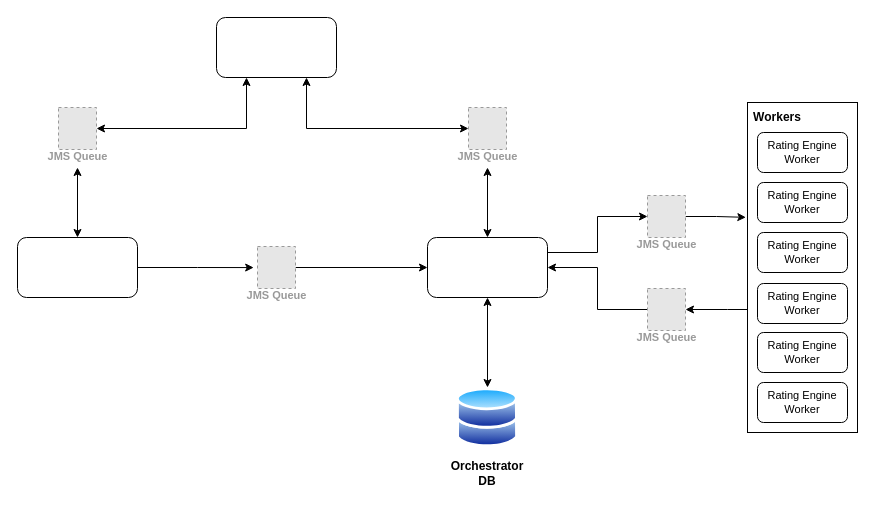
Some shapes in this 875 by 510 pixel diagram are drawn without their labels. Grey dashed boxes stand in for pictures. The box of each missing label's shape, as (x1, y1, x2, y2) in pixels:
Error Repository: (216, 16, 336, 78)
Rating Adapter: (16, 236, 138, 298)
Rating Orchestrator Service: (426, 236, 548, 298)
